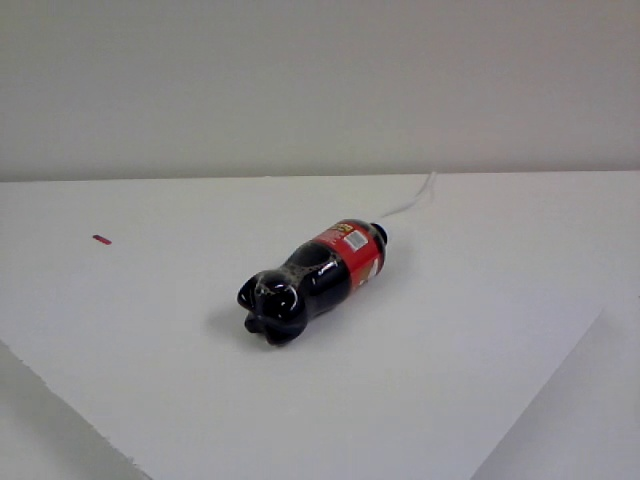botolplastik: (239, 220, 391, 345)
